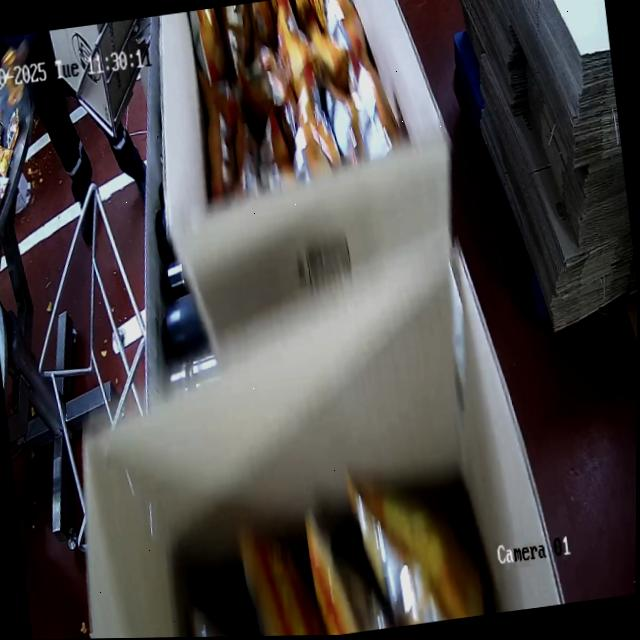FRENCH_CHEESE: (184, 0, 388, 207)
